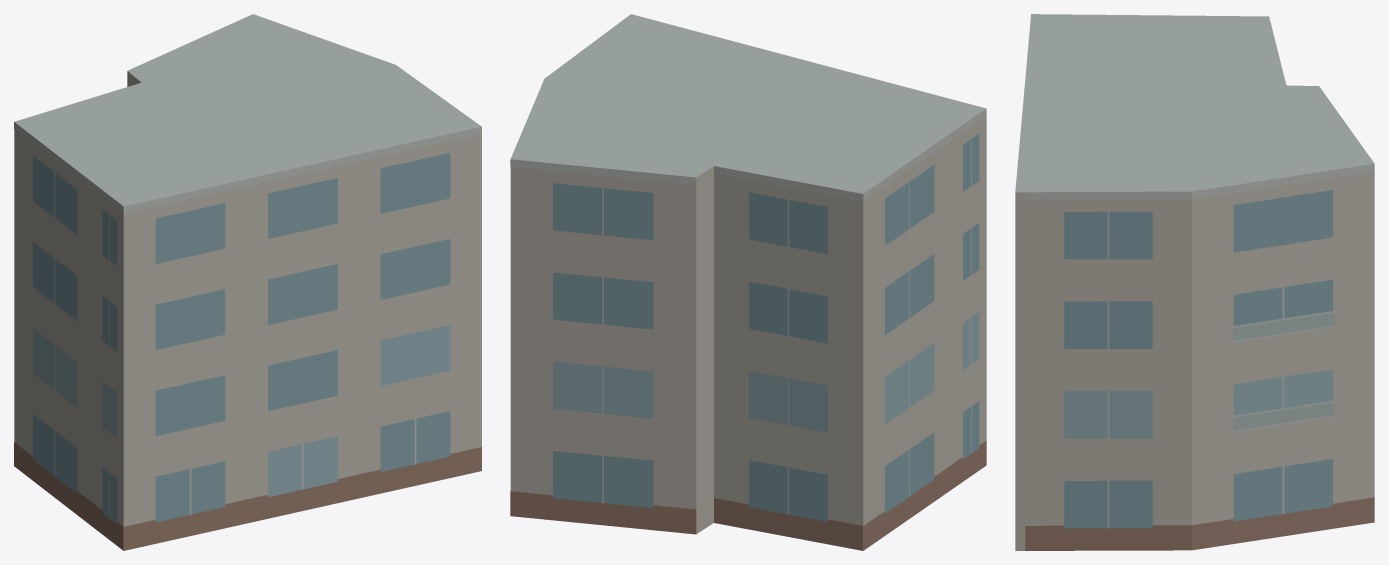
File: survey-upis-32803739.glb
3 renders of one model, left to right at view 1: azimuth 30°, elevation 25°; view 2: azimuth 150°, elevation 25°; view 3: azimuth 270°, elevation 25°, orthographic. The views are drawn at different scales.
Parts seen in each view (by area): view 1: survey-upis-32803739.tmp; view 2: survey-upis-32803739.tmp; view 3: survey-upis-32803739.tmp.
Boxes of the visible parts, x1,y1,x2,y2 form: survey-upis-32803739.tmp: (14, 14, 481, 550); survey-upis-32803739.tmp: (510, 14, 986, 550); survey-upis-32803739.tmp: (1015, 14, 1374, 550).
Bounding box in the file's own units: 12.24 × 11.48 × 10.44.
